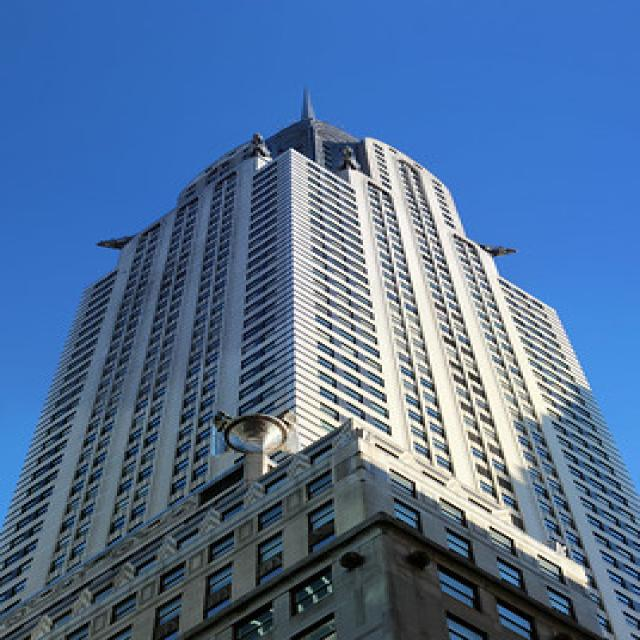building: (2, 107, 640, 640)
